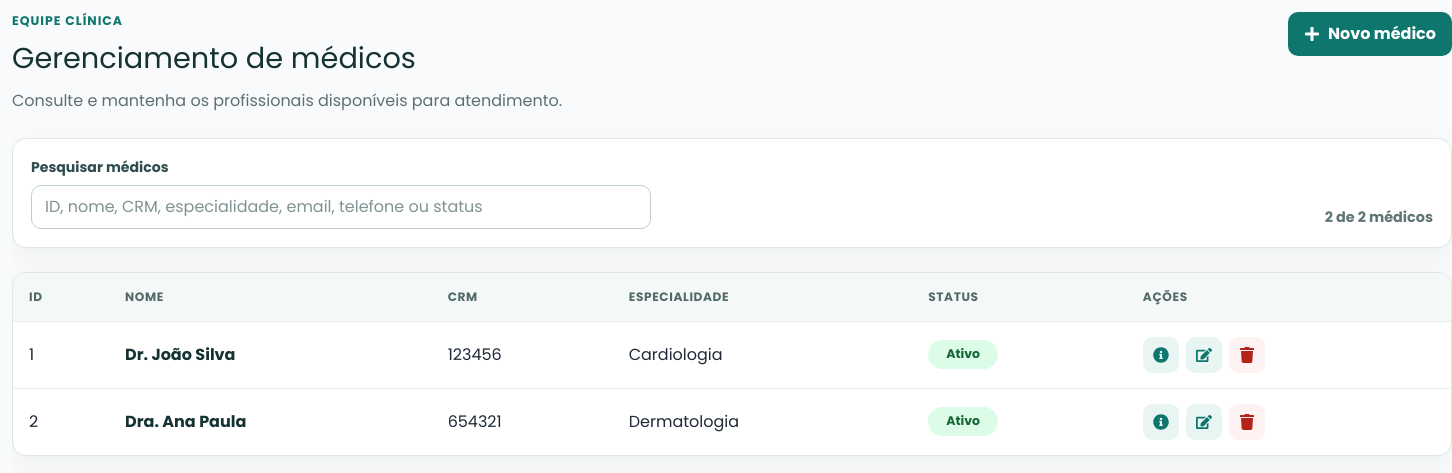
Test: DoctorList Page › distingue pesquisa sem resultados
Type "profissional inexistente" into the search field labelled "Pesquisar médicos" at (341, 207), box left=31, top=185, right=651, bottom=229
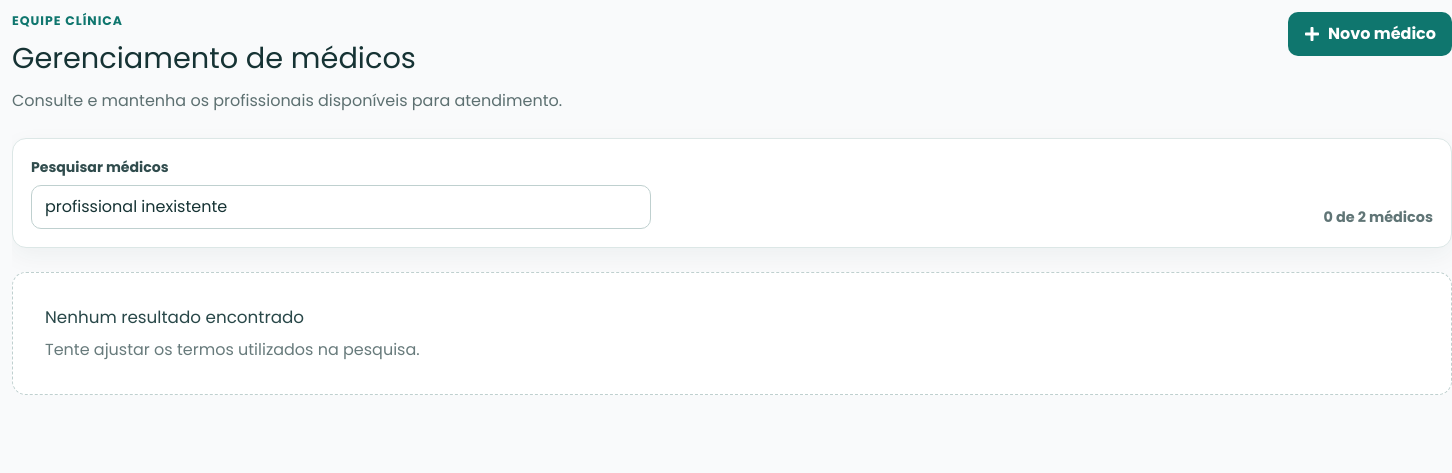
Expected: the heading "Nenhum resultado encontrado" is shown, left=45, top=305, right=304, bottom=330
Expected: the text "0 de 2 médicos" is shown, left=1324, top=207, right=1433, bottom=229
